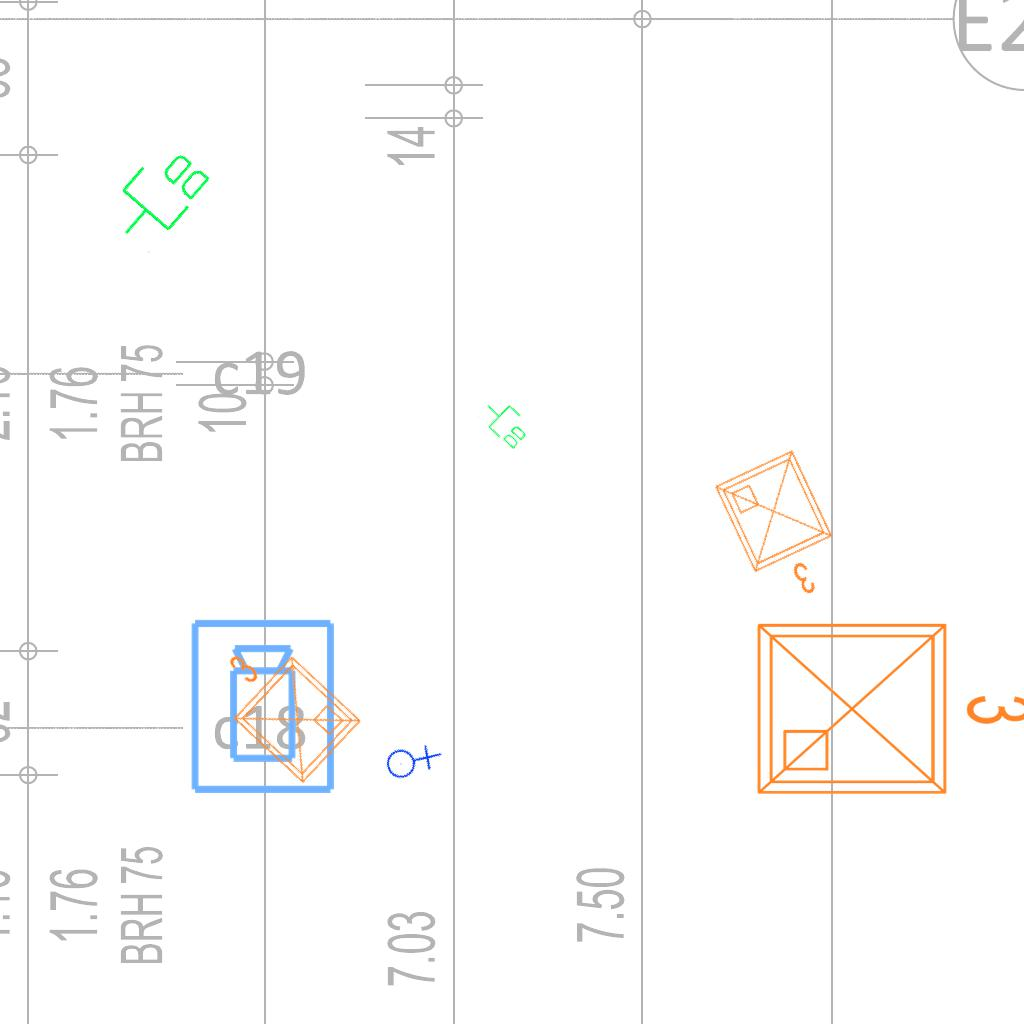Datenanschluss_zweifach: (98, 134, 219, 259), (475, 393, 536, 453)
Einbaudownlights_LED_Konferenzraeume: (743, 601, 1024, 809), (190, 617, 372, 797), (705, 439, 863, 619)
Elektroanschluss_allgemein_230V_Geraeteanschlussdose_230V: (377, 726, 444, 793)
KFO_Kamera_mit_Festobjektiv: (187, 616, 341, 798)
